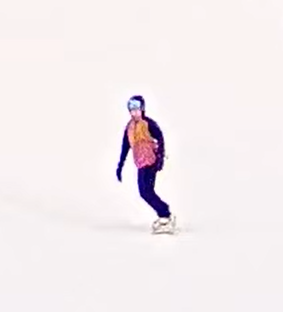snowboarder: (112, 92, 180, 236)
